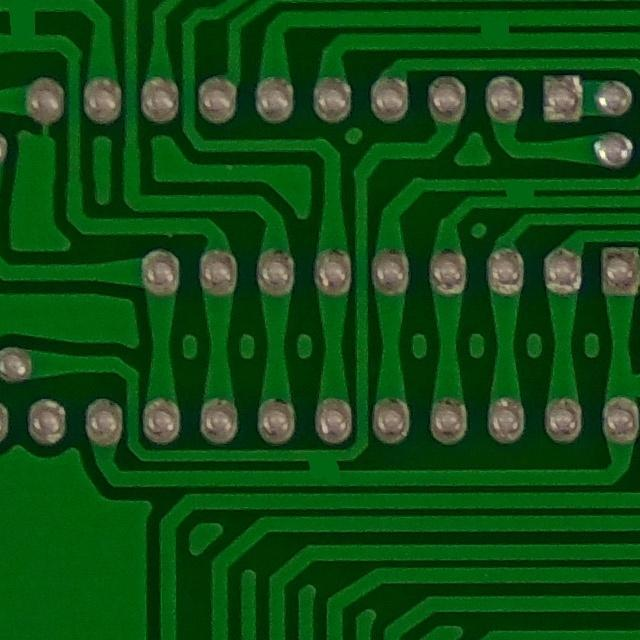short: (485, 167, 552, 220), (0, 0, 57, 57), (296, 437, 355, 490), (460, 5, 524, 52)
